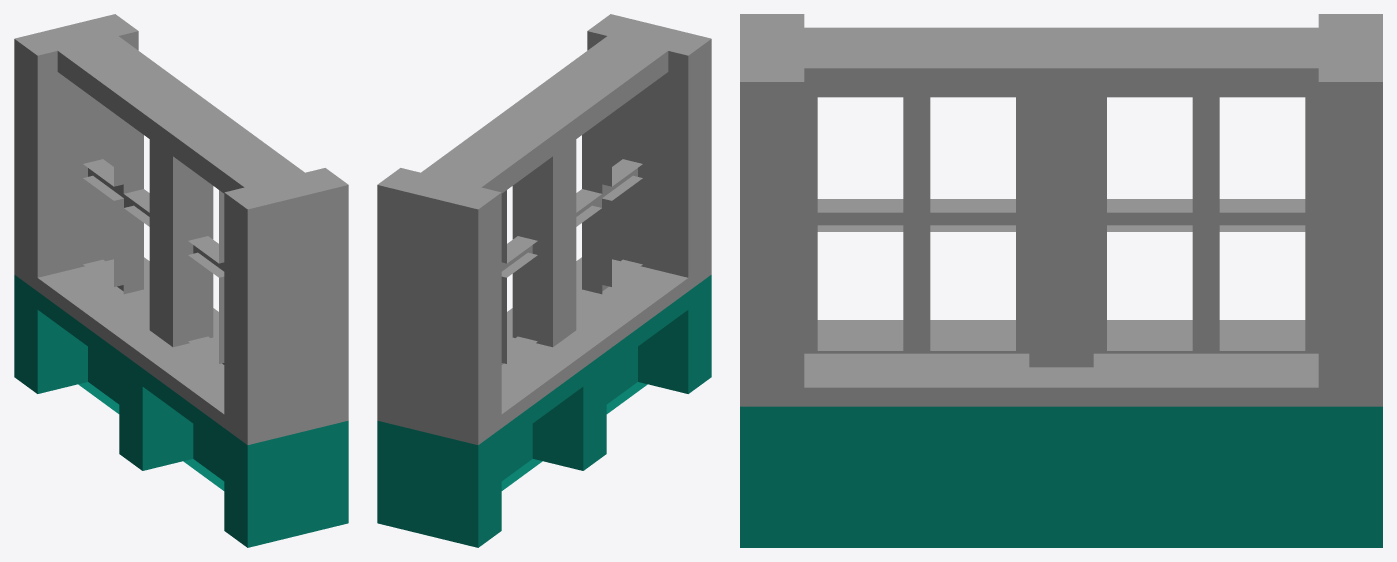
Rendered from Wall_1.fbx.
The picture shows the model from 3 angles, left to right: view 1: azimuth 30°, elevation 25°; view 2: azimuth 150°, elevation 25°; view 3: azimuth 270°, elevation 25°; orthographic projection. The views are drawn at different scales.
Visible parts, largest first — view 1: CementPart, WoodPart.001; view 2: CementPart, WoodPart.001; view 3: CementPart, WoodPart.001.
Part boxes in pixels (x1,y1,x2,y2): CementPart: (14,14,348,444); WoodPart.001: (14,275,348,547); CementPart: (377,14,711,444); WoodPart.001: (377,275,711,547); CementPart: (740,14,1382,406); WoodPart.001: (740,406,1382,547).
Size of the model in its own units: 250 by 800 by 1000.
